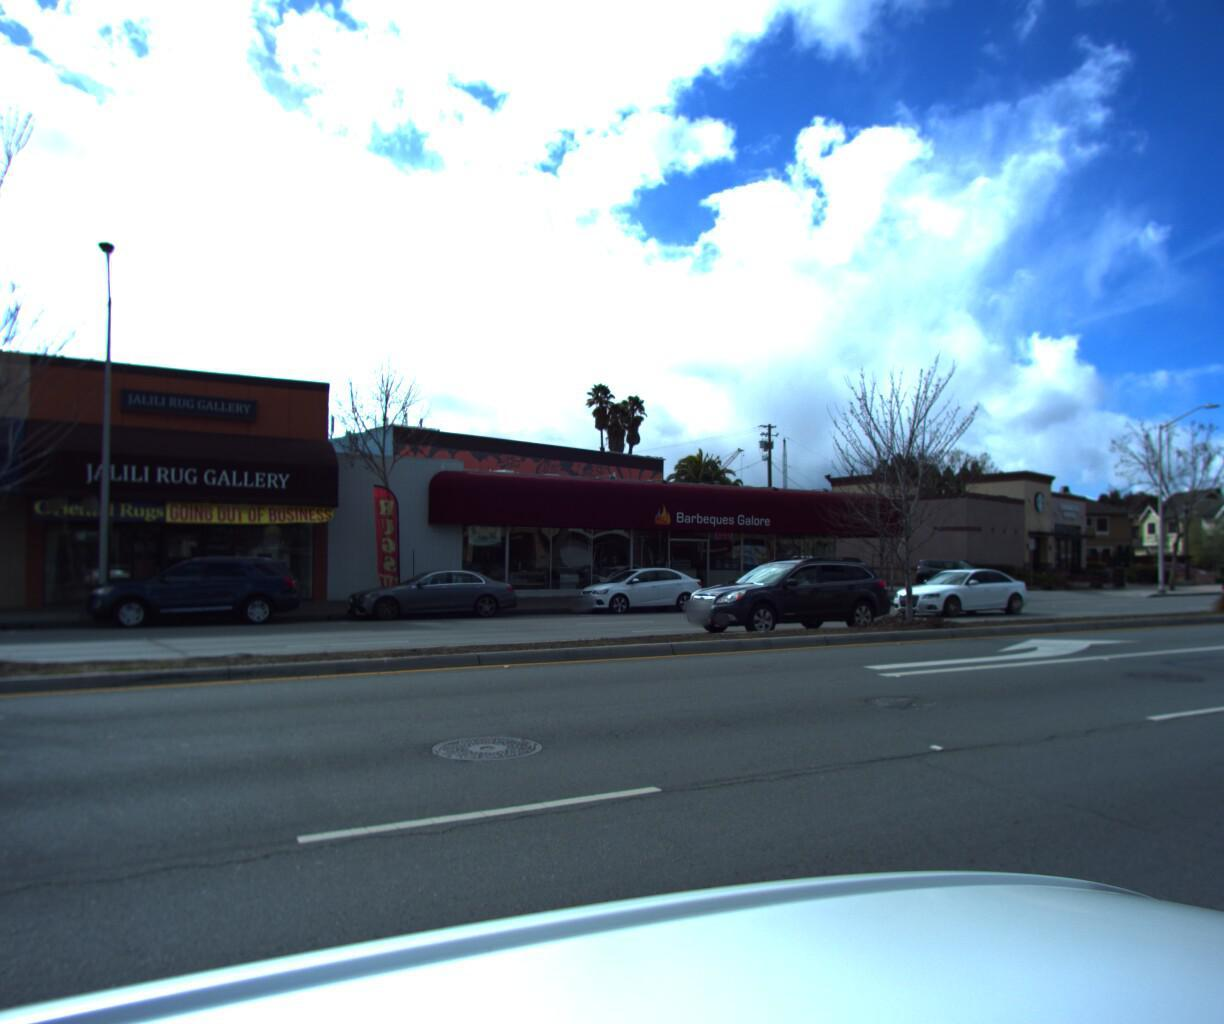car: (670, 561, 898, 645), (75, 562, 309, 639), (340, 573, 524, 630), (708, 563, 854, 617), (890, 573, 1040, 623), (566, 570, 712, 622), (909, 561, 997, 596), (1141, 562, 1209, 581)
